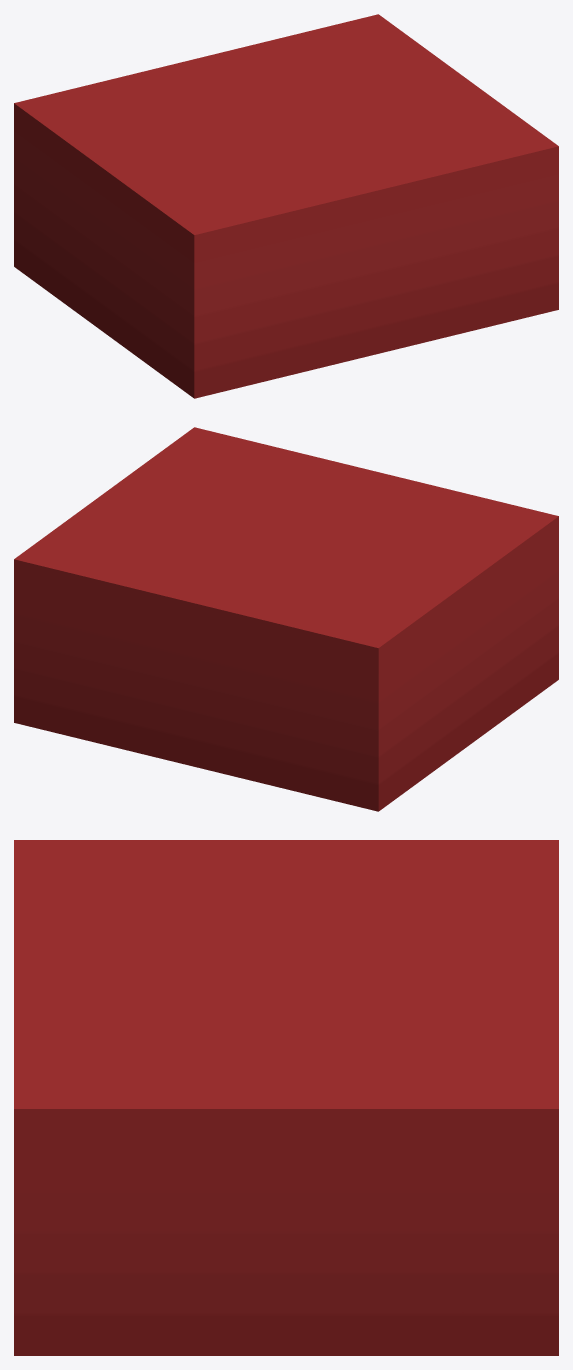
The model's file is Spine061.fbx.
3 renders of one model, top to bottom at view 1: azimuth 30°, elevation 25°; view 2: azimuth 150°, elevation 25°; view 3: azimuth 270°, elevation 25°, orthographic. The views are drawn at different scales.
Visible parts, largest first — view 1: Spine061; view 2: Spine061; view 3: Spine061.
Part boxes in pixels (x1,y1,x2,y2): Spine061: (14, 14, 558, 398); Spine061: (14, 427, 558, 811); Spine061: (14, 840, 558, 1355).
Size of the model in its own units: 14 by 6 by 12.
